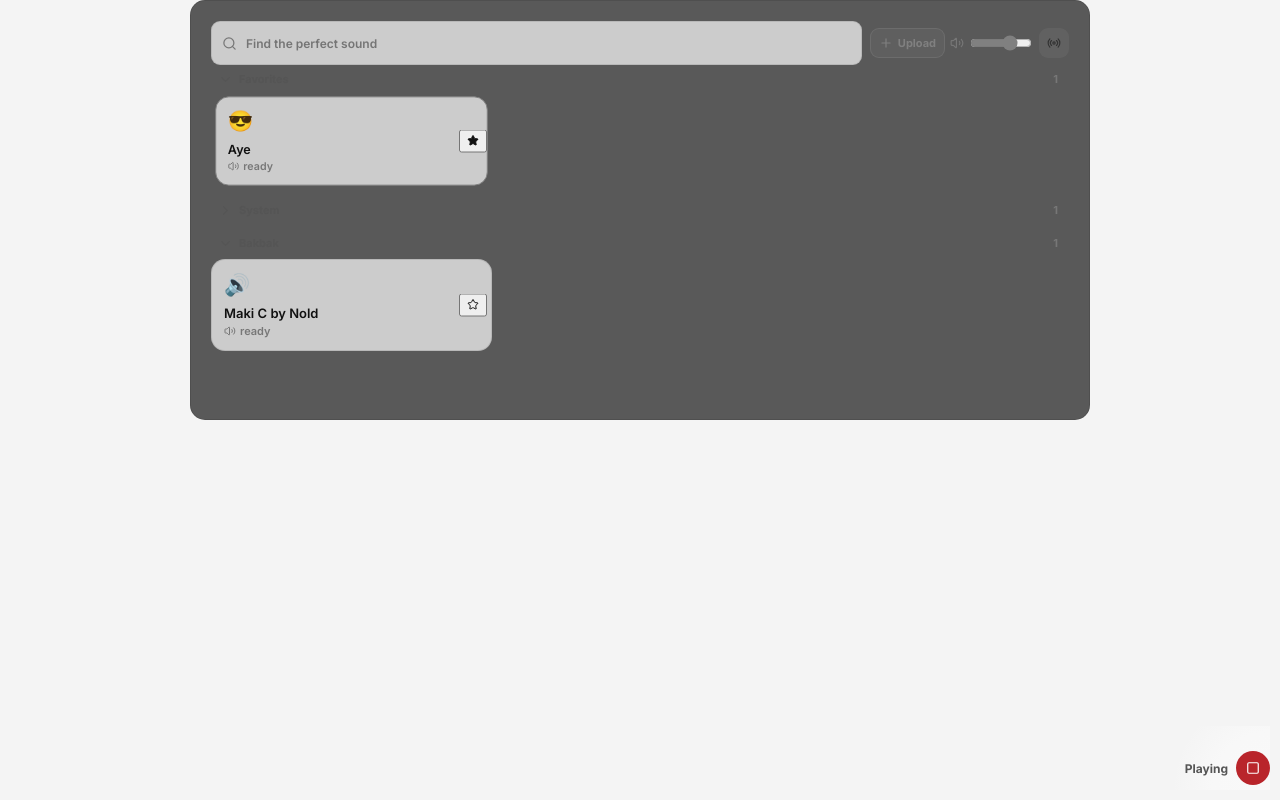
Test: Soundboard › opens the member upload workflow from the drawer
The width and height of the screenshot is (1280, 800).
Click the button "Upload" at (907, 43), box x1=870 y1=28 x2=945 y2=58
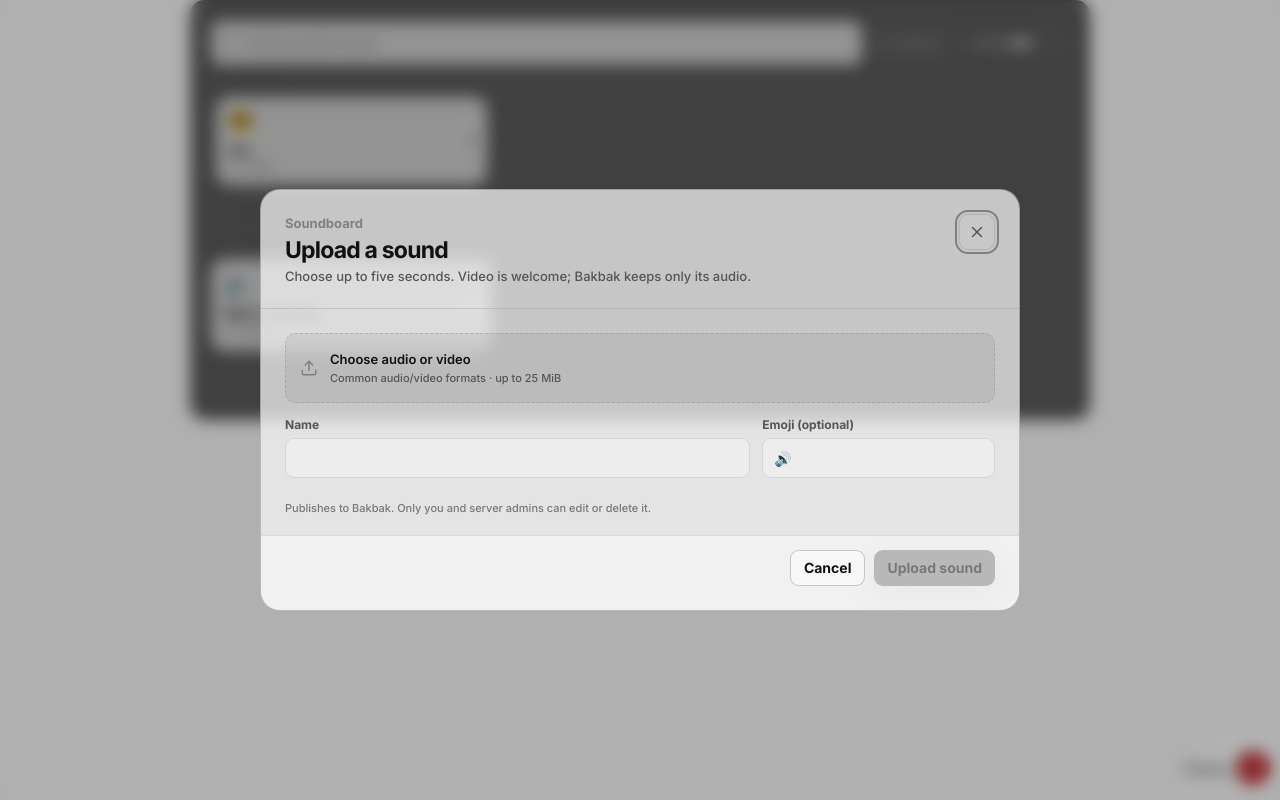
Now the dialog "Upload a sound" is shown, box x1=260 y1=189 x2=1020 y2=611
Now the text "Video is welcome; Bakbak keeps only its audio" is shown, box x1=285 y1=268 x2=751 y2=284
